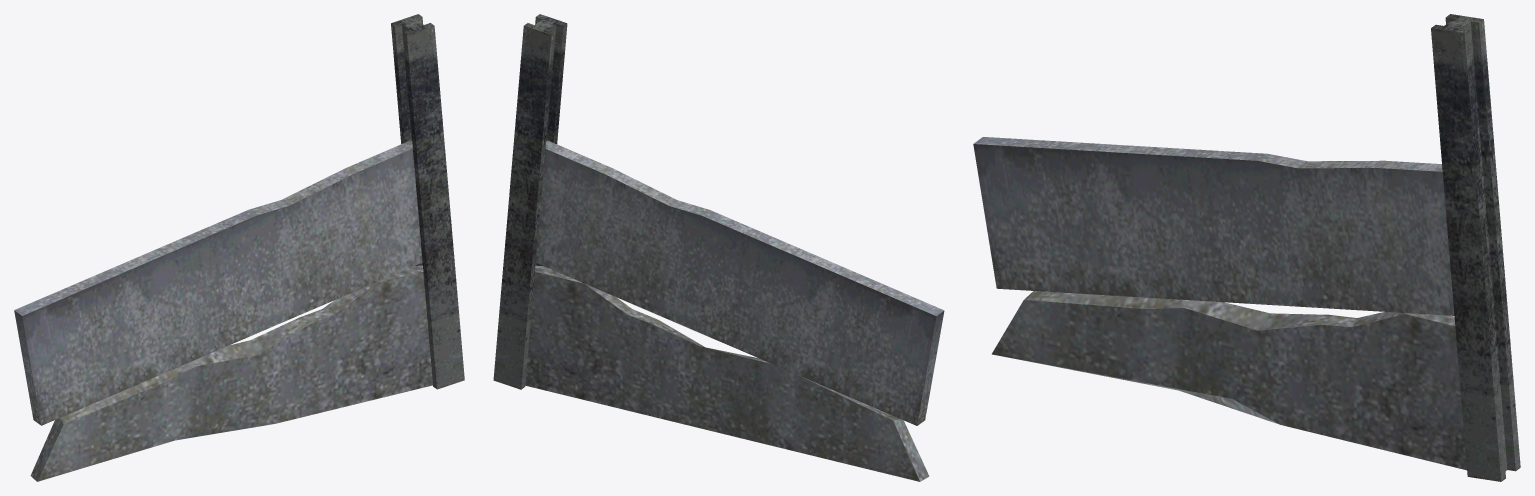
The model's file is Urban_PlackardBrokenSlanted_Alternate_f29559_Model.fbx.
The picture shows the model from 3 angles, left to right: view 1: azimuth 30°, elevation 25°; view 2: azimuth 150°, elevation 25°; view 3: azimuth 330°, elevation 25°; orthographic projection. The views are drawn at different scales.
Parts seen in each view (by area): view 1: Urban_PlackardBrokenSlanted_Alternate_f29559_Mesh; view 2: Urban_PlackardBrokenSlanted_Alternate_f29559_Mesh; view 3: Urban_PlackardBrokenSlanted_Alternate_f29559_Mesh.
Boxes of the visible parts, <box> form: Urban_PlackardBrokenSlanted_Alternate_f29559_Mesh: <box>14,14,464,481</box>; Urban_PlackardBrokenSlanted_Alternate_f29559_Mesh: <box>493,14,944,481</box>; Urban_PlackardBrokenSlanted_Alternate_f29559_Mesh: <box>973,14,1520,481</box>.
Bounding box in the file's own units: 3.16 × 2.51 × 0.2.
